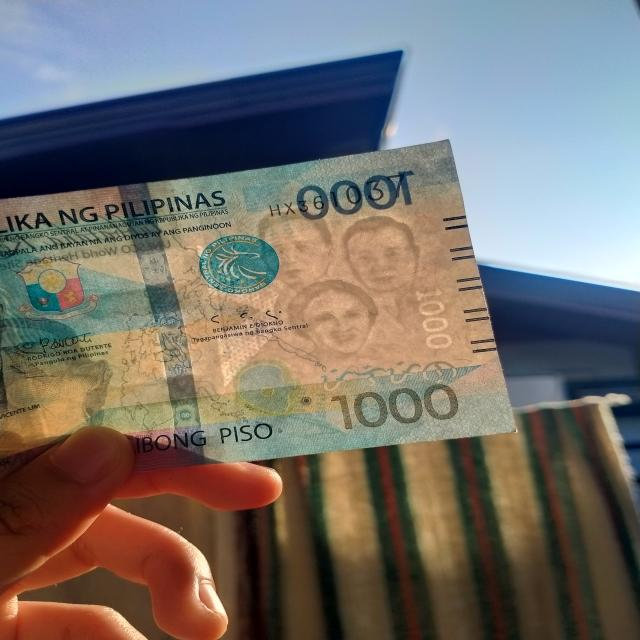security_thread: (115, 178, 208, 469)
see_through_mark: (314, 357, 461, 396)
value_watermark: (410, 284, 452, 352)
watermark: (256, 209, 423, 357)
